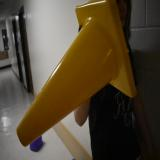cone: (16, 0, 137, 147)
cube: (30, 135, 44, 152), (72, 158, 76, 160)
